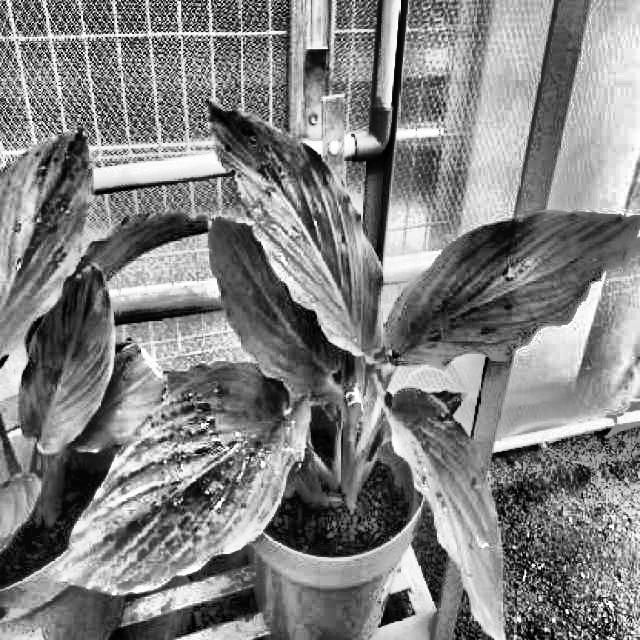plants: (56, 99, 638, 638), (0, 124, 214, 570)
